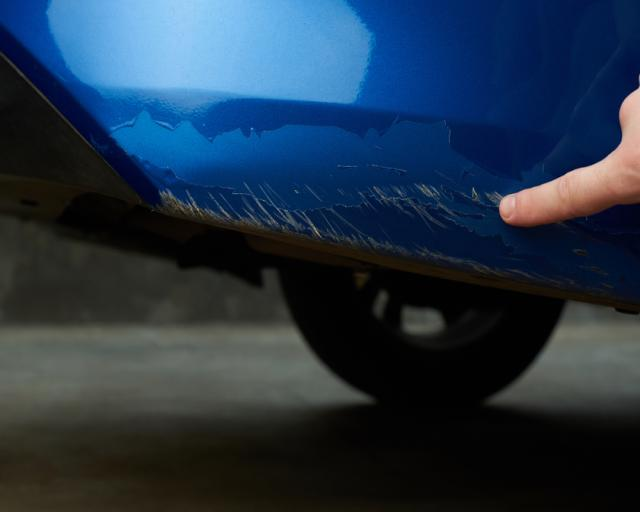scratch: (151, 176, 579, 293)
